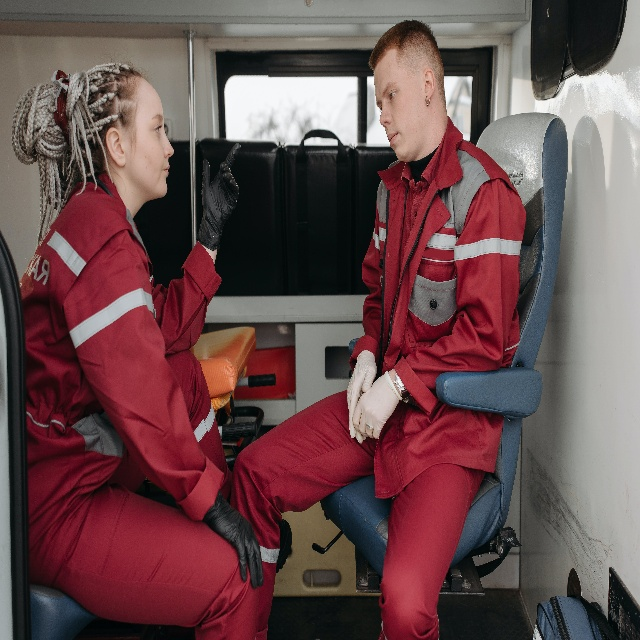Guantes: (203, 490, 264, 590), (195, 142, 241, 252), (351, 372, 401, 439), (347, 349, 377, 444)
